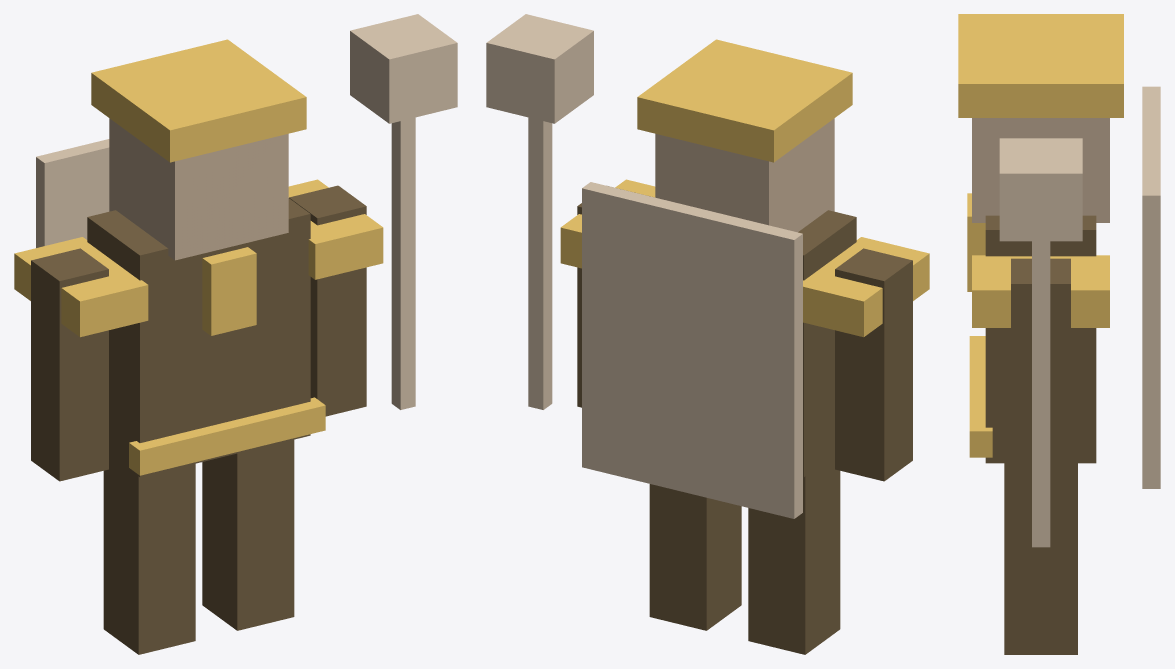
Rendered from 10_noor_glassroot_medic_at_ranger.glb.
The picture shows the model from 3 angles, left to right: view 1: azimuth 30°, elevation 25°; view 2: azimuth 150°, elevation 25°; view 3: azimuth 270°, elevation 25°; orthographic projection. The views are drawn at different scales.
Visible parts, largest first — view 1: Noor Glassroot, Medic at Ranger; view 2: Noor Glassroot, Medic at Ranger; view 3: Noor Glassroot, Medic at Ranger.
Boxes of the visible parts, box(x1,y1,x2,y2) form: Noor Glassroot, Medic at Ranger: box(14, 14, 457, 654); Noor Glassroot, Medic at Ranger: box(486, 14, 929, 654); Noor Glassroot, Medic at Ranger: box(958, 14, 1160, 654).
Bounding box in the file's own units: 1.08 × 1.41 × 0.4588.
